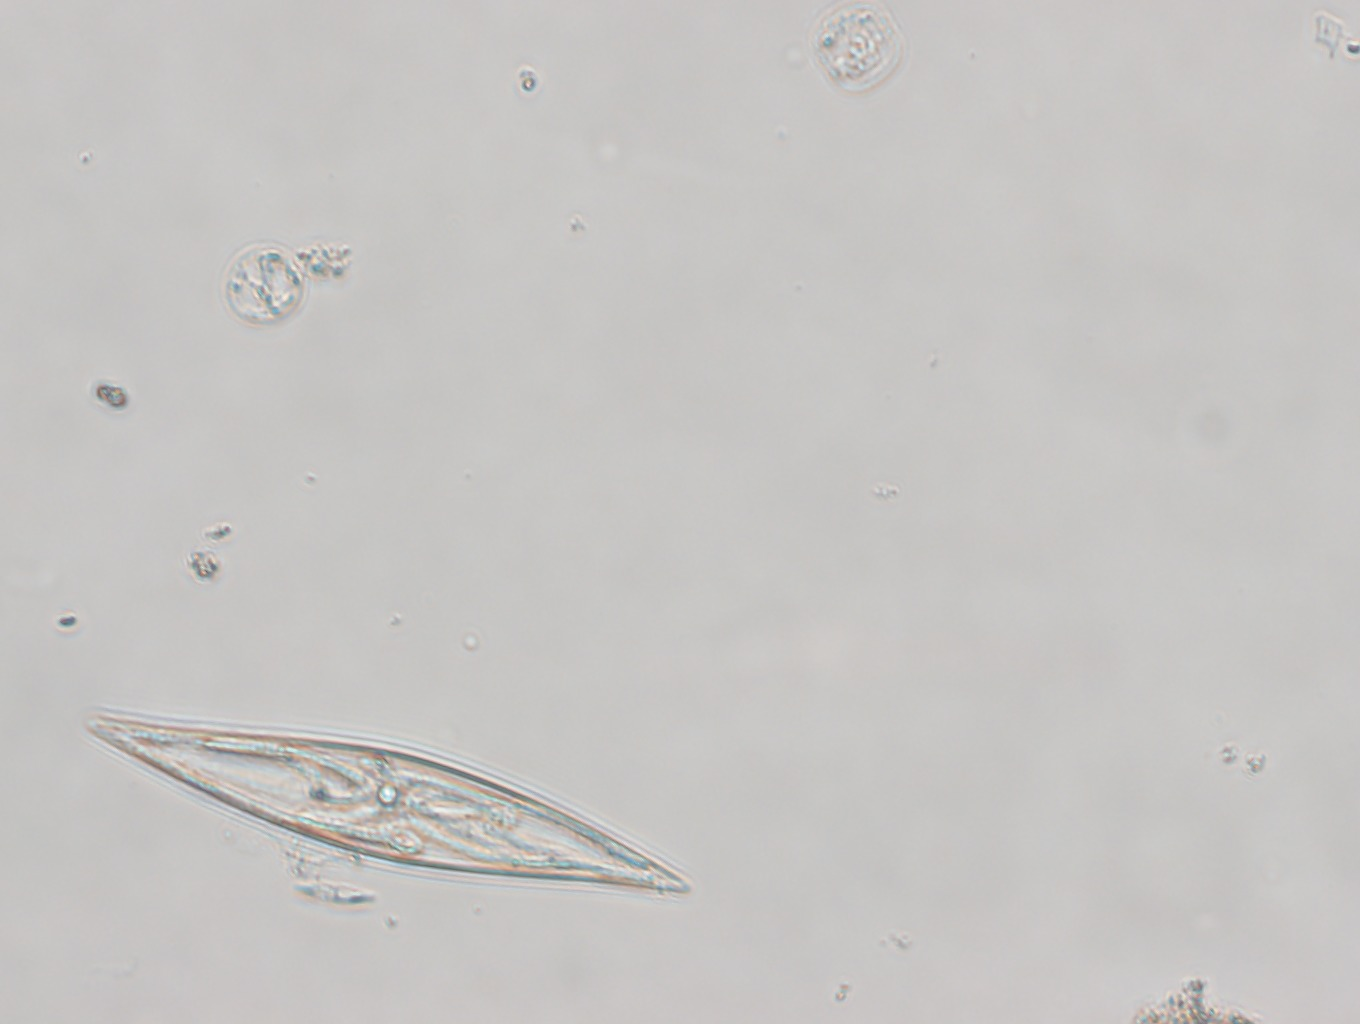pleurosigma pelagicum: (81, 705, 695, 894)
